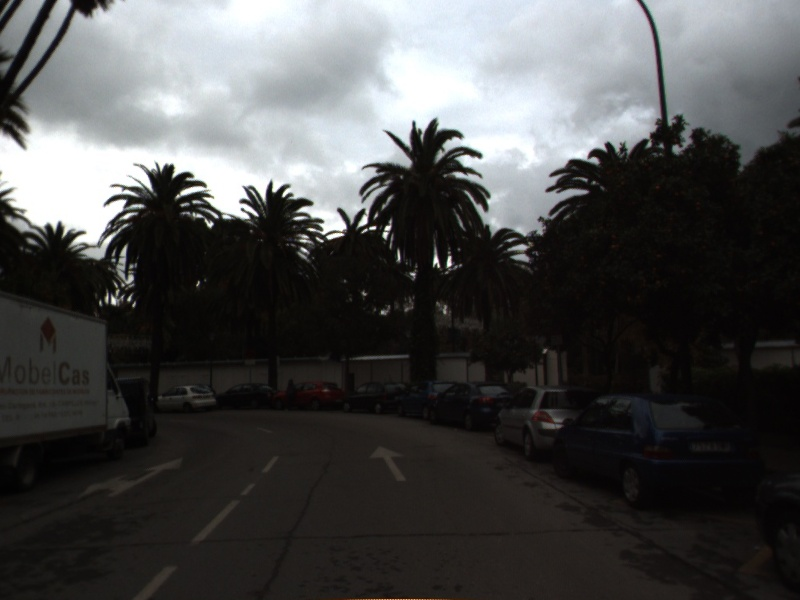STRAIGHT: (367, 444, 409, 483)
STRAIGHT_LEFT: (75, 455, 185, 501)
